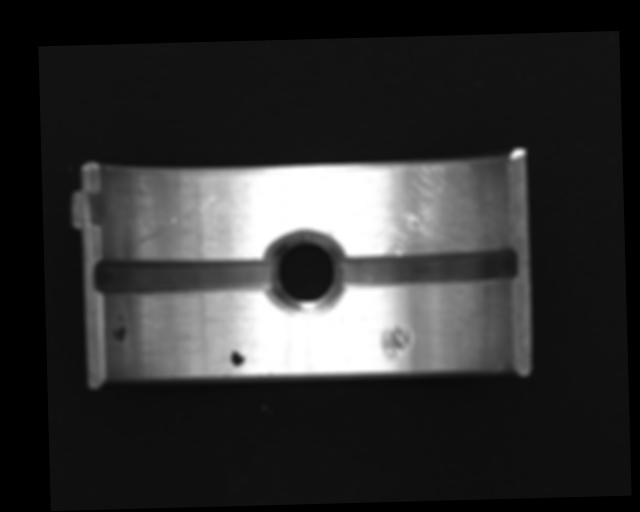blot: (110, 311, 127, 344), (230, 345, 245, 367)
bruise: (380, 324, 412, 364)
gap: (92, 255, 274, 300), (332, 246, 518, 289)
hole: (261, 227, 346, 317)
nick: (134, 196, 218, 245)
scratch: (339, 159, 501, 257)
